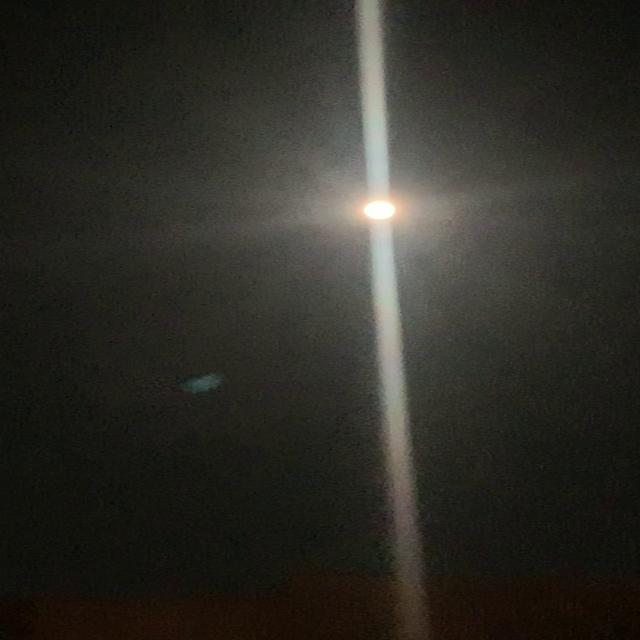moon: (344, 190, 418, 230)
